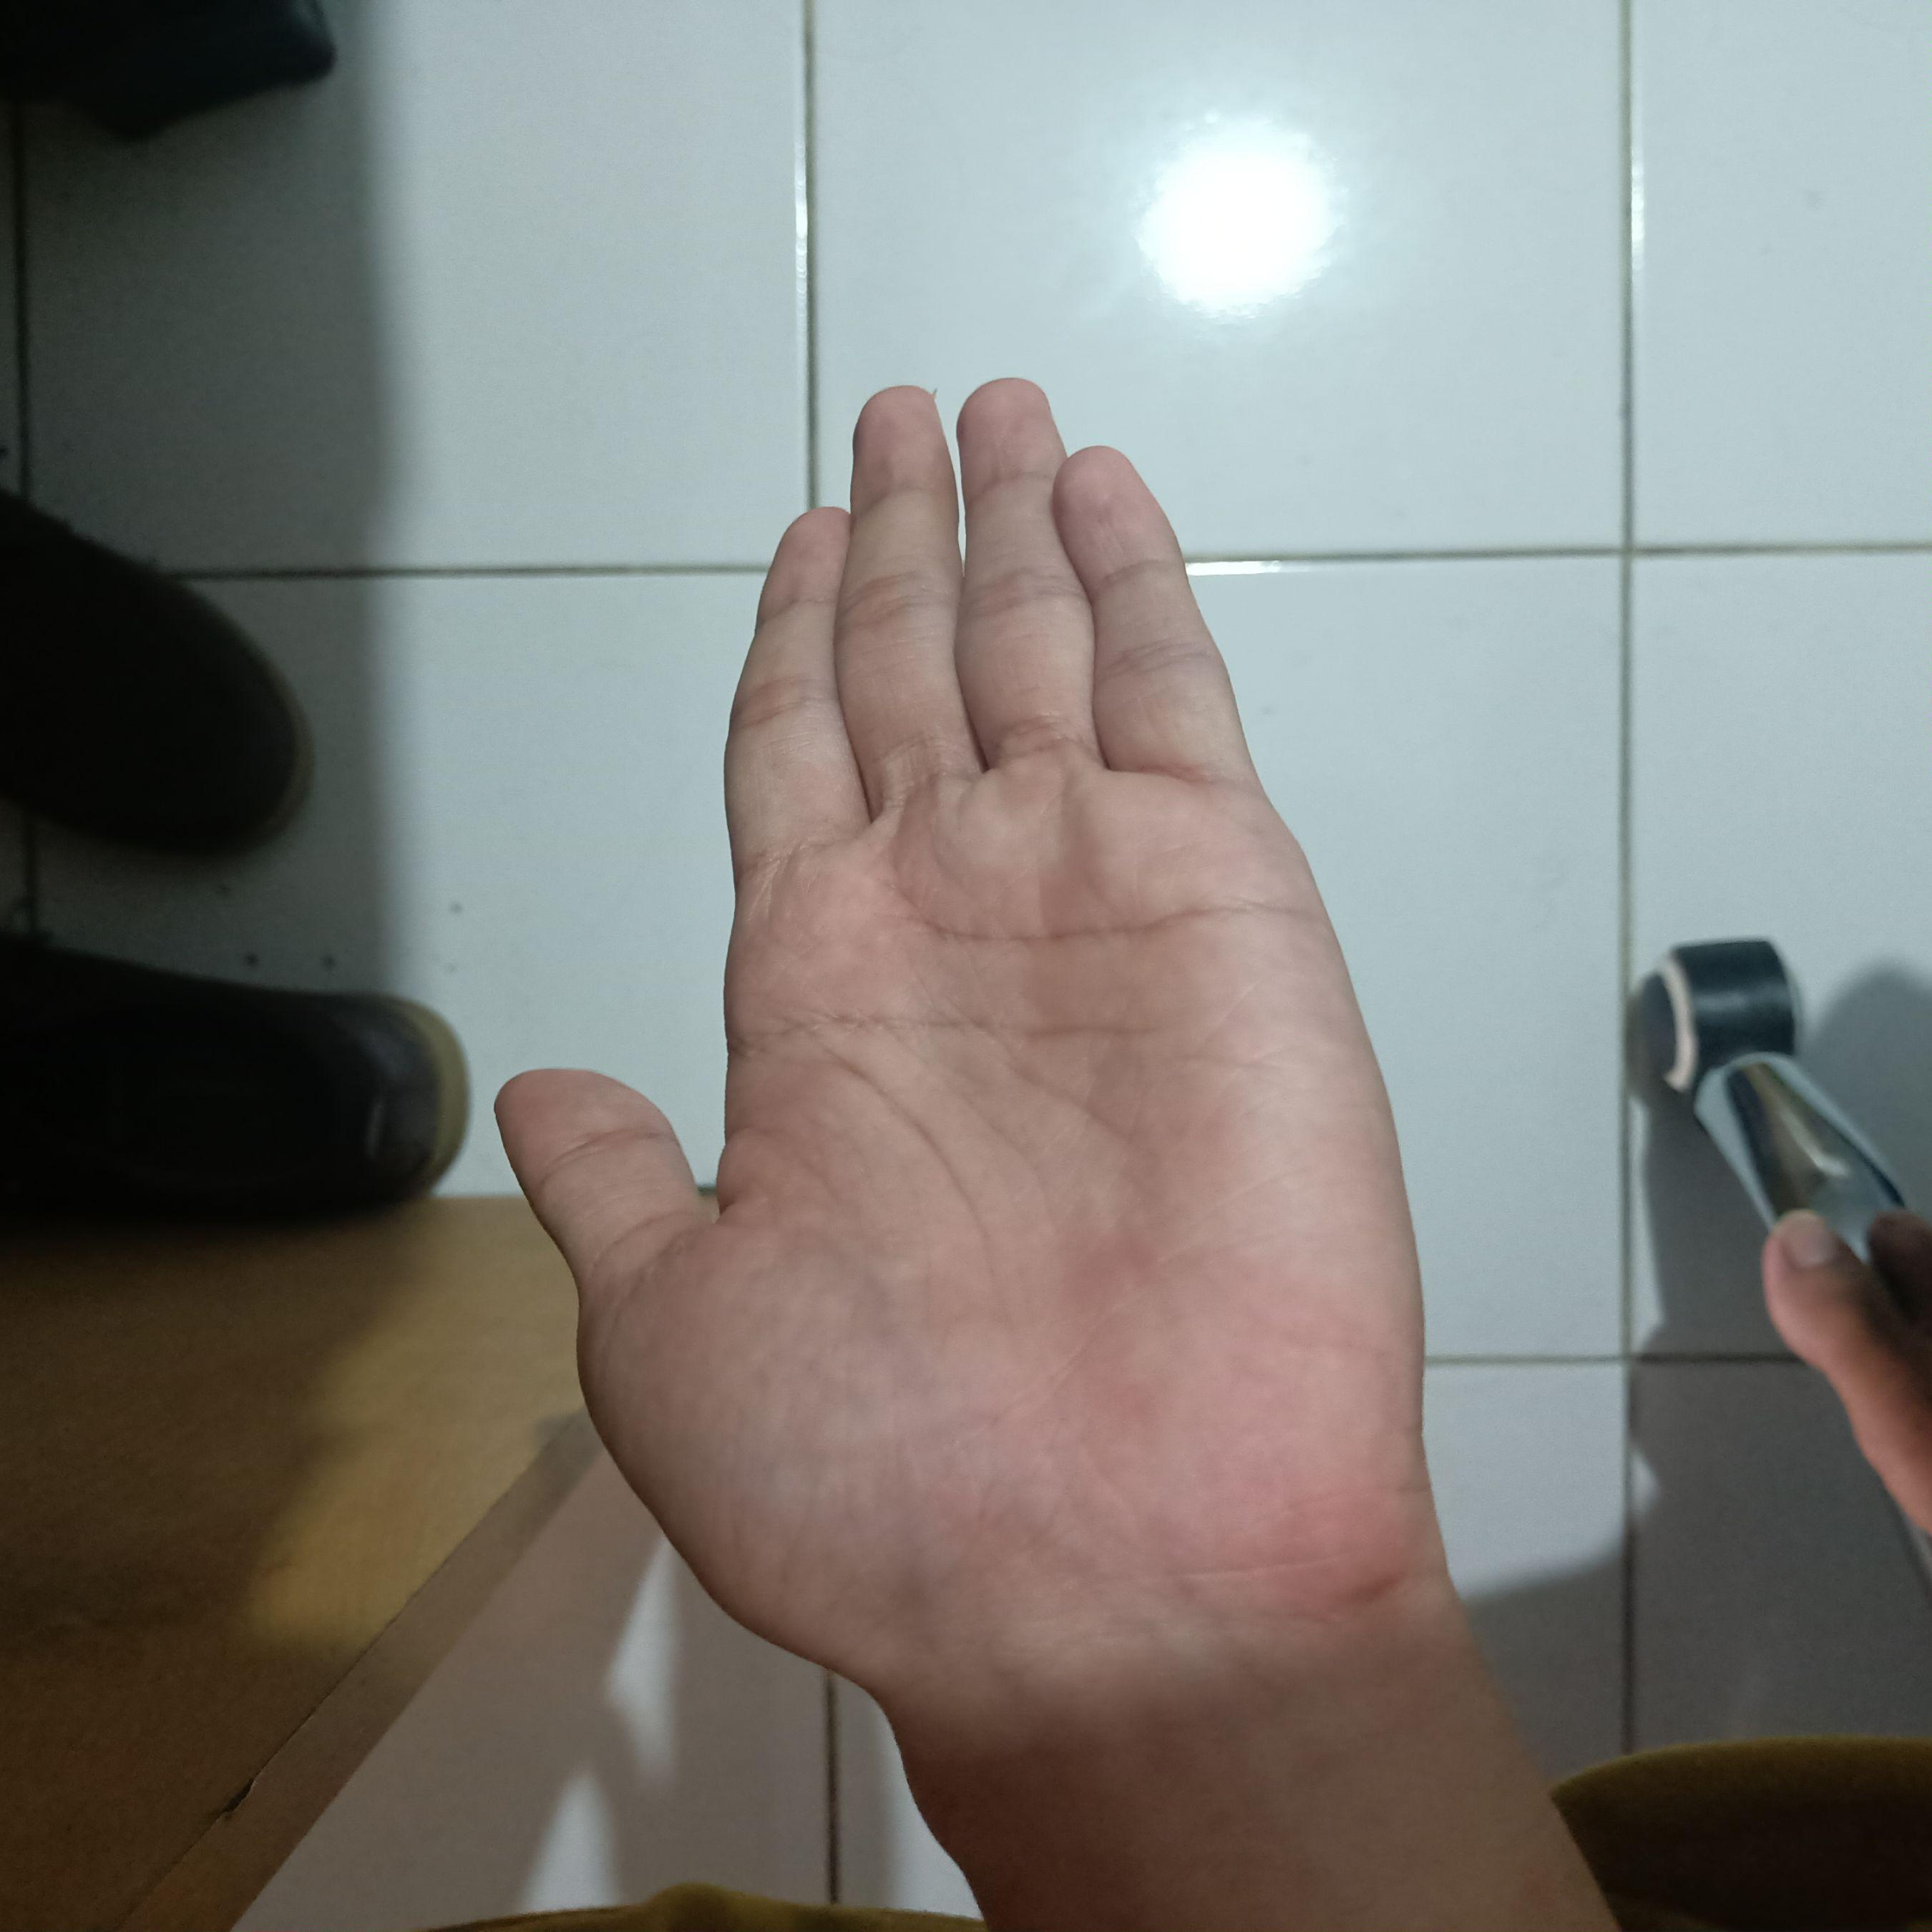paper: (469, 370, 1453, 1727)
